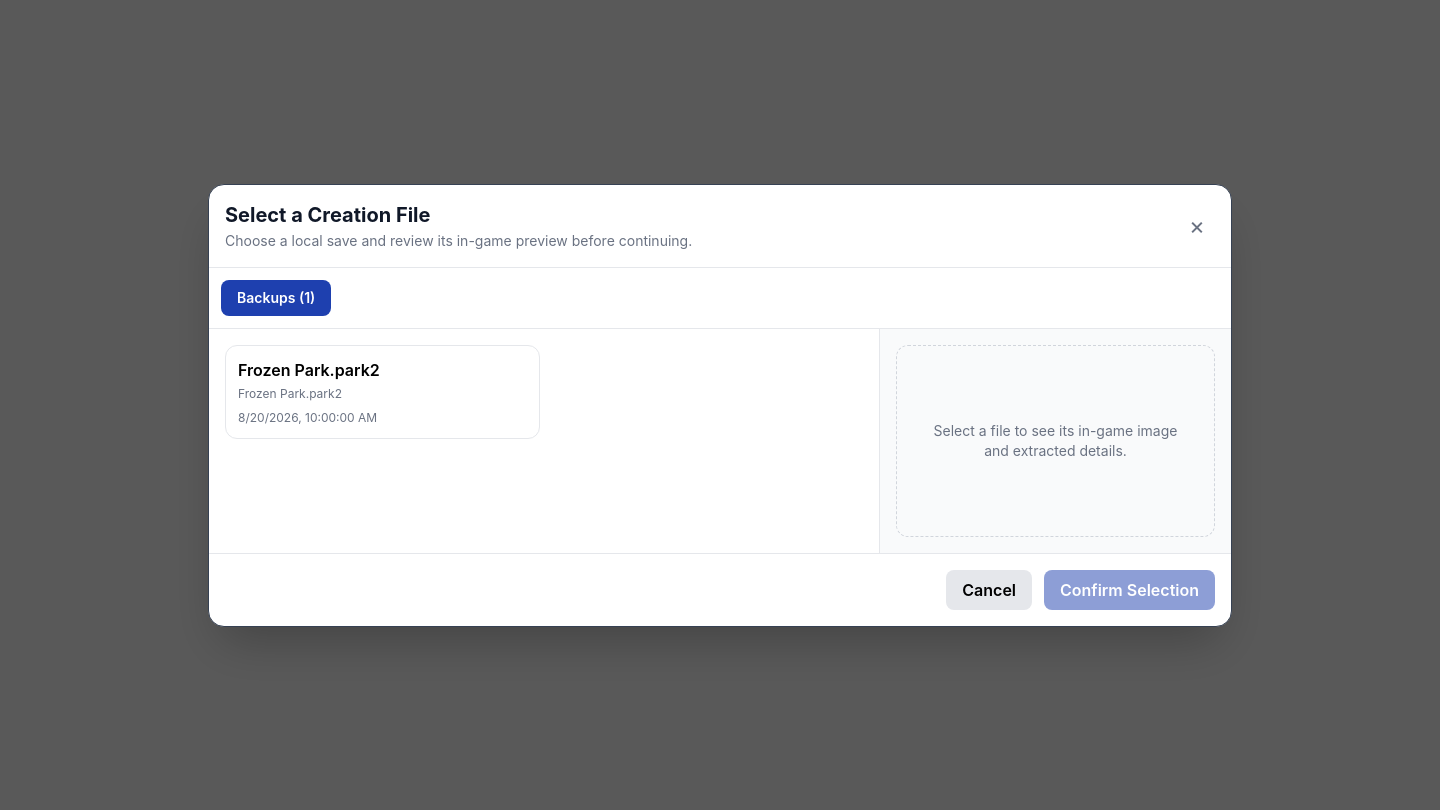
it: lists packaged backups without trying to parse them as raw Frontier saves
This screenshot has width=1440, height=810.
Click the button "Frozen Park.park2 Frozen Park.park2 8/20/2026, 10:00:00 AM".
click(309, 370)  # box [225,344,540,438]
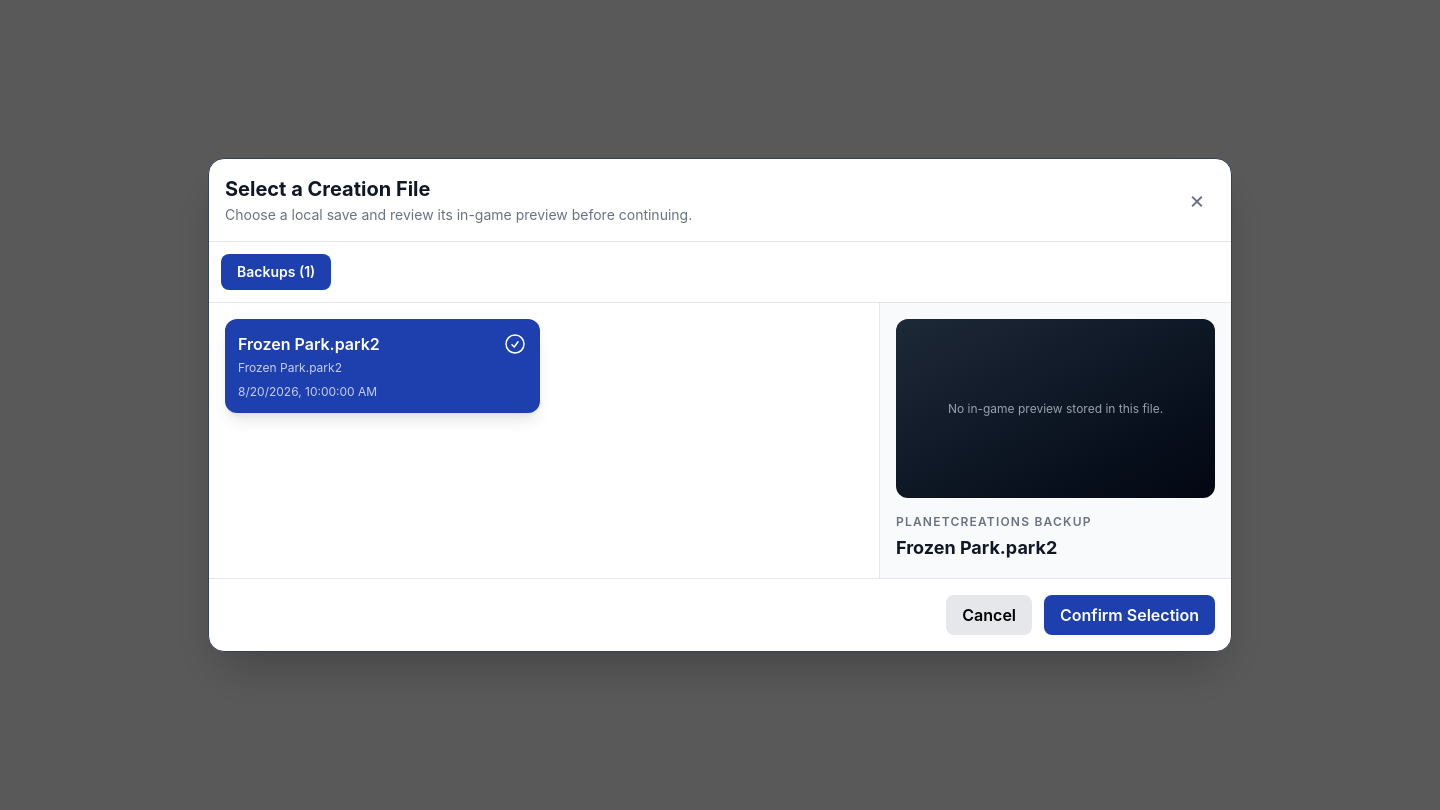
expect the text "PlanetCreations backup" is shown: met, box [896,514,1092,529]
